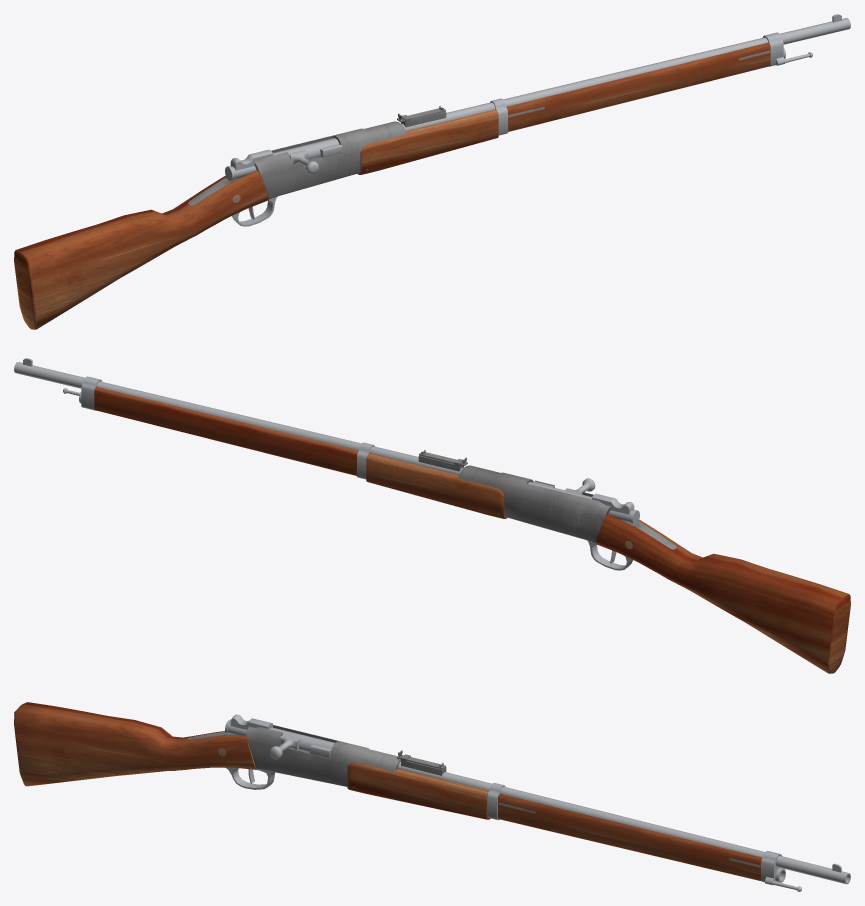
File: arm5.glb
3 renders of one model, top to bottom at view 1: azimuth 30°, elevation 25°; view 2: azimuth 150°, elevation 25°; view 3: azimuth 330°, elevation 25°, orthographic.
Parts seen in each view (by area): view 1: Lebel1886; view 2: Lebel1886; view 3: Lebel1886.
Boxes of the visible parts, x1=… form: Lebel1886: x1=14, y1=14, x2=850, y2=329; Lebel1886: x1=14, y1=358, x2=850, y2=673; Lebel1886: x1=14, y1=702, x2=850, y2=891.
Bounding box in the file's own units: 9.89 × 1.42 × 0.5833.
1 material, 1 textured.
